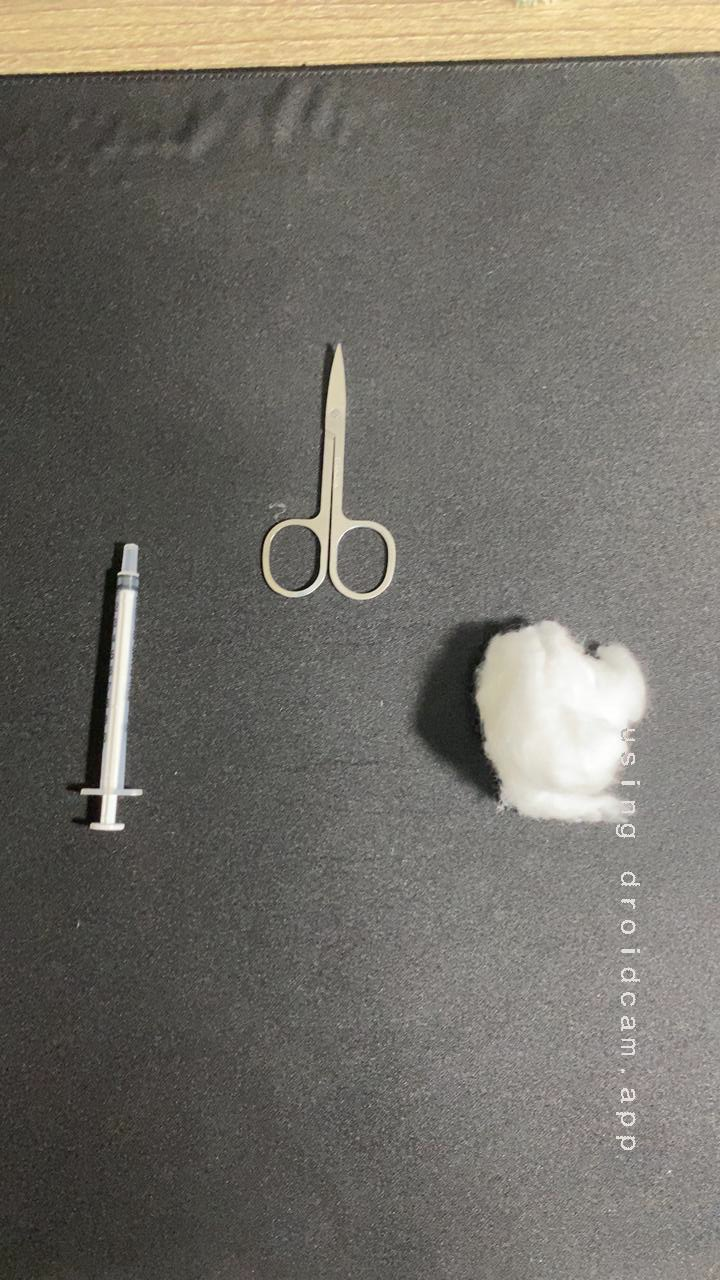cotton: (445, 598, 681, 856)
scissor: (235, 328, 417, 616)
syringe: (43, 525, 182, 849)
